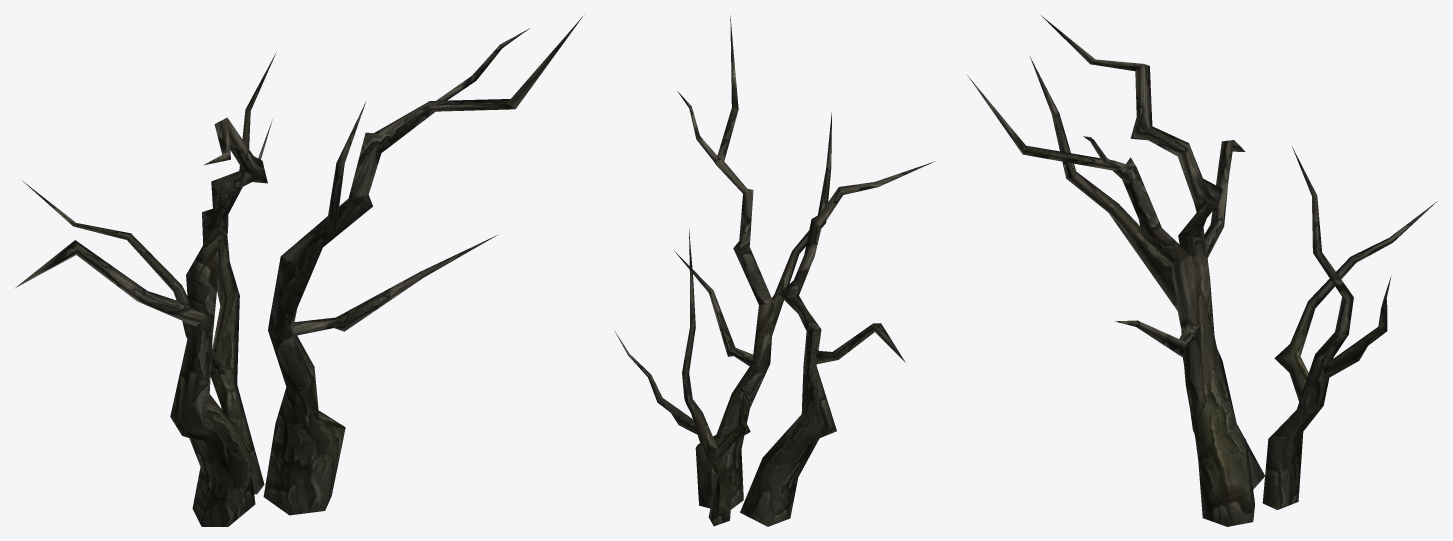
File: D_shu003.fbx
3 renders of one model, left to right at view 1: azimuth 30°, elevation 25°; view 2: azimuth 150°, elevation 25°; view 3: azimuth 270°, elevation 25°, orthographic. The views are drawn at different scales.
Visible parts, largest first — view 1: D_shu003; view 2: D_shu003; view 3: D_shu003.
Boxes of the visible parts, x1,y1,x2,y2 form: D_shu003: (15,14,584,526); D_shu003: (615,15,935,526); D_shu003: (967,15,1437,526).
Size of the model in its own units: 295 by 374 by 321.
